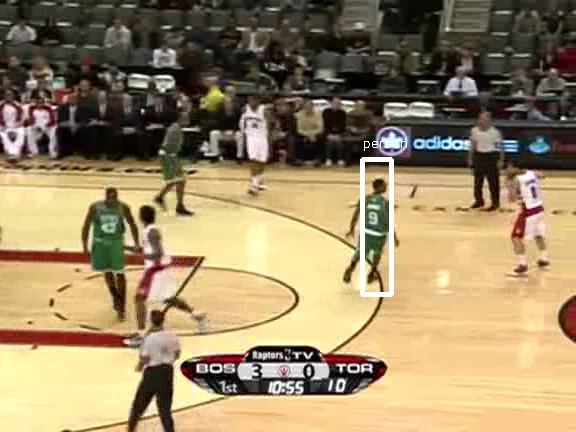person: (359, 190, 393, 271), (358, 190, 392, 271), (360, 190, 394, 271), (359, 189, 393, 270), (359, 191, 393, 272)
target_negative: (24, 66, 346, 301), (250, 88, 306, 275), (466, 138, 501, 355), (482, 254, 516, 299), (535, 146, 550, 183)
